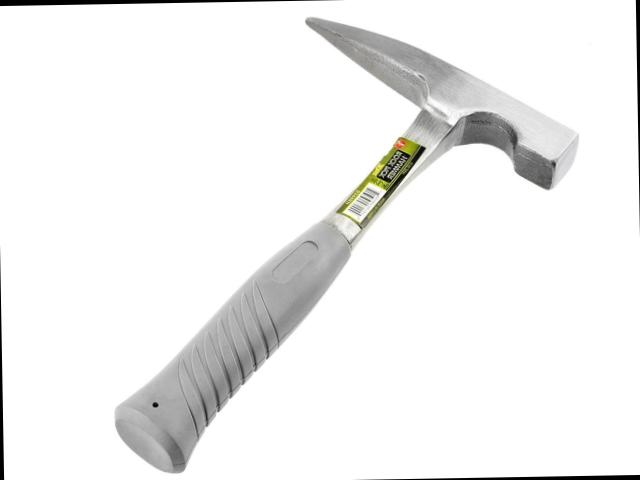hammer: (108, 9, 586, 472)
